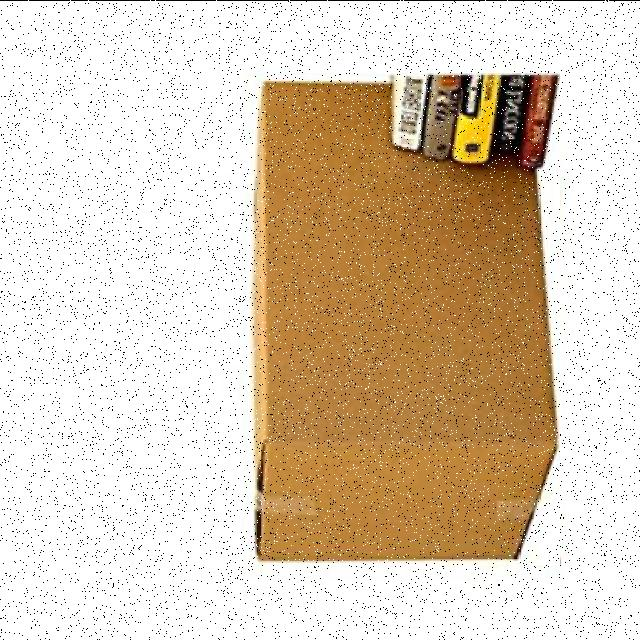normal: (245, 72, 560, 565)
